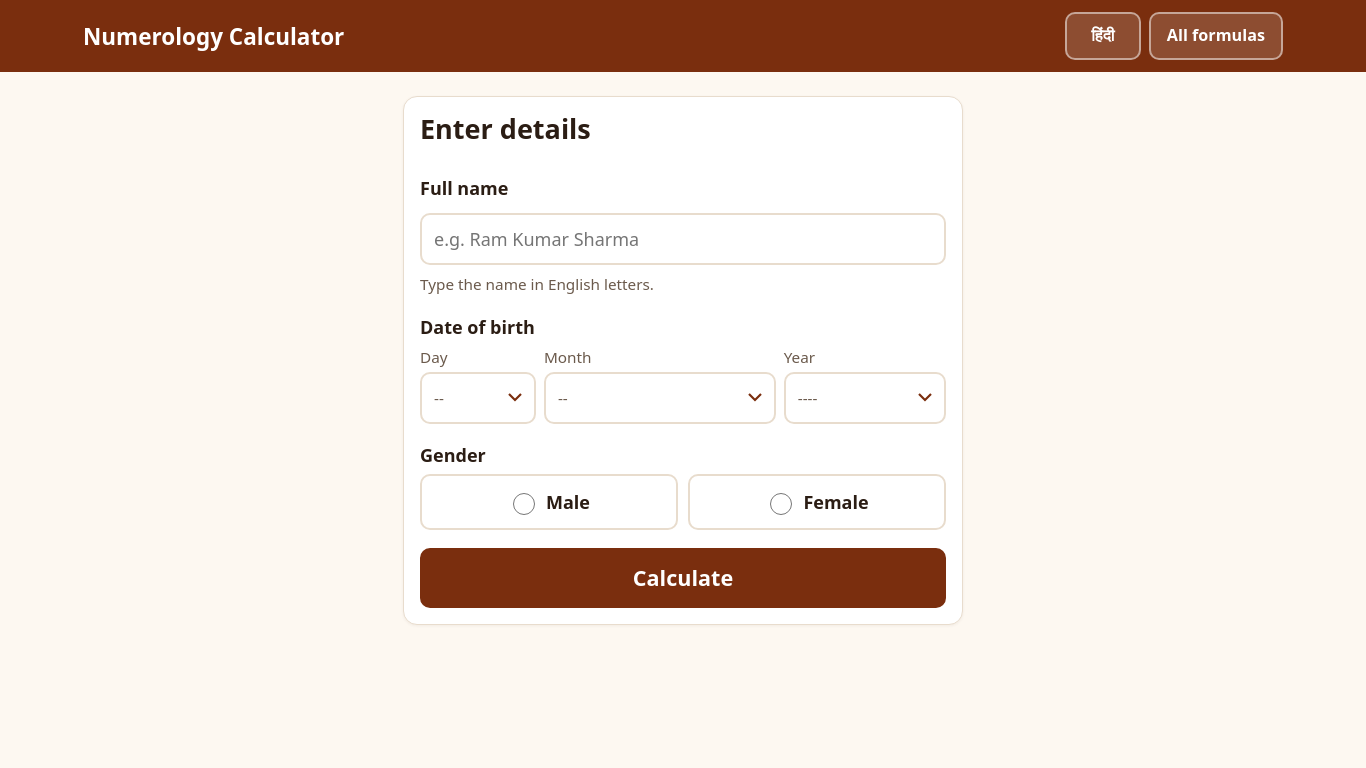
Test case: entering details › shows clear errors when nothing is filled in
Step 1. Click the button "Calculate" → (683, 578), box left=420, top=548, right=946, bottom=608
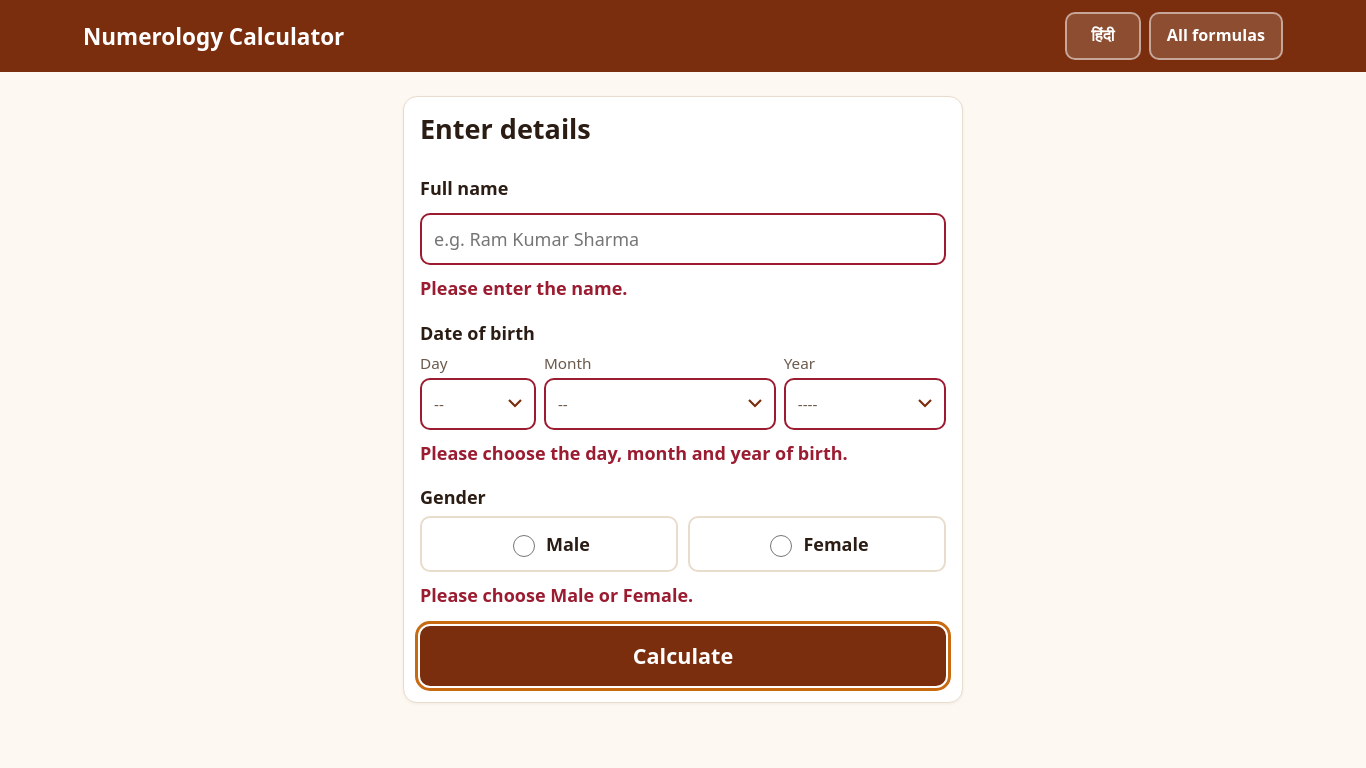
Check: the messages read "Please enter the name.", "Please choose the day, month and year of birth.", "Please choose Male or Female.", in this order, box left=420, top=276, right=627, bottom=300; left=420, top=441, right=848, bottom=465; left=420, top=583, right=693, bottom=607
